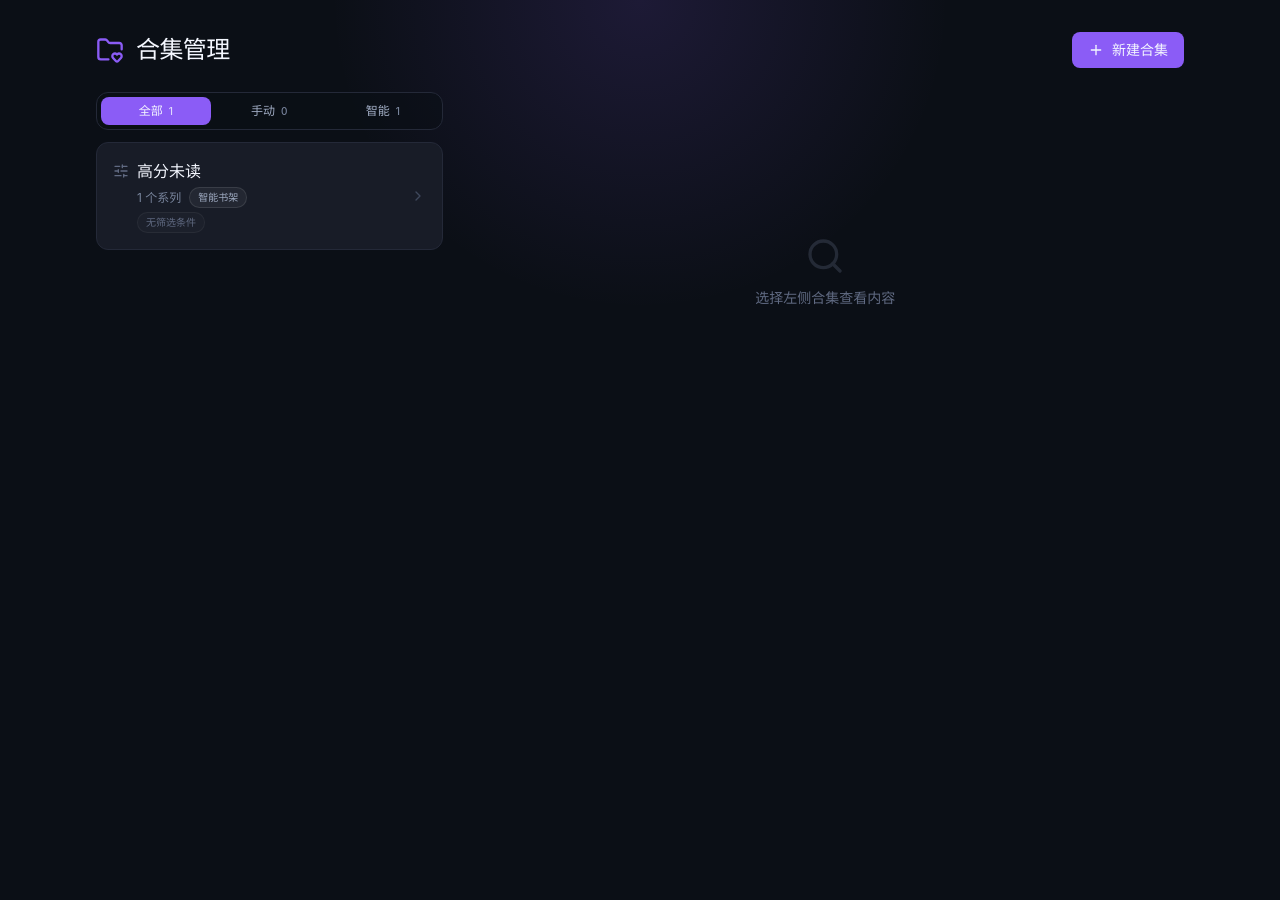
it: 智能书架固化撞名 › 后端 409 时提示重名且弹窗不关
This screenshot has width=1280, height=900.
Click the text "高分未读". click: [169, 171]
box: [137,159,201,183]
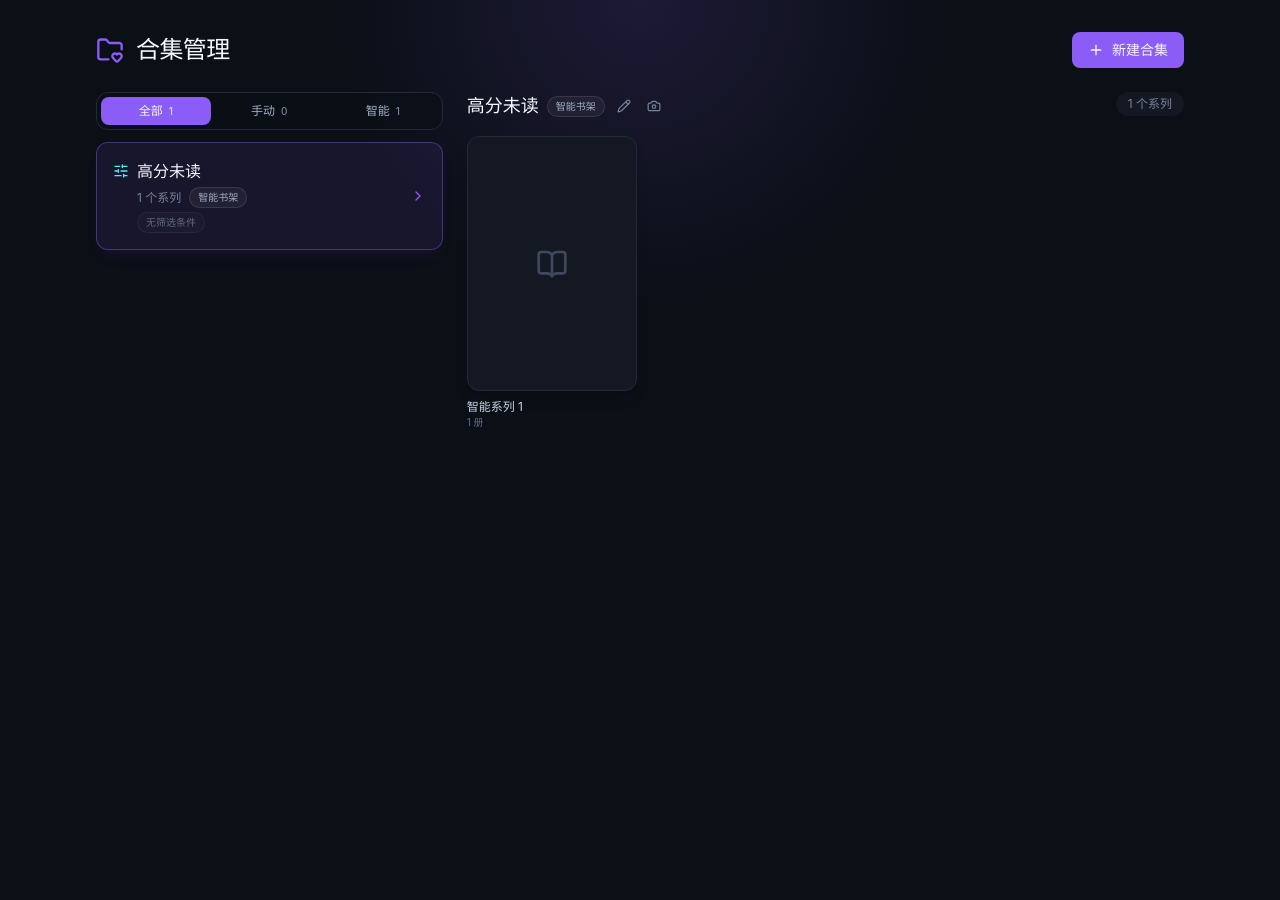
Click the button titled "固化快照". click: [654, 106]
box: [643,95,665,117]
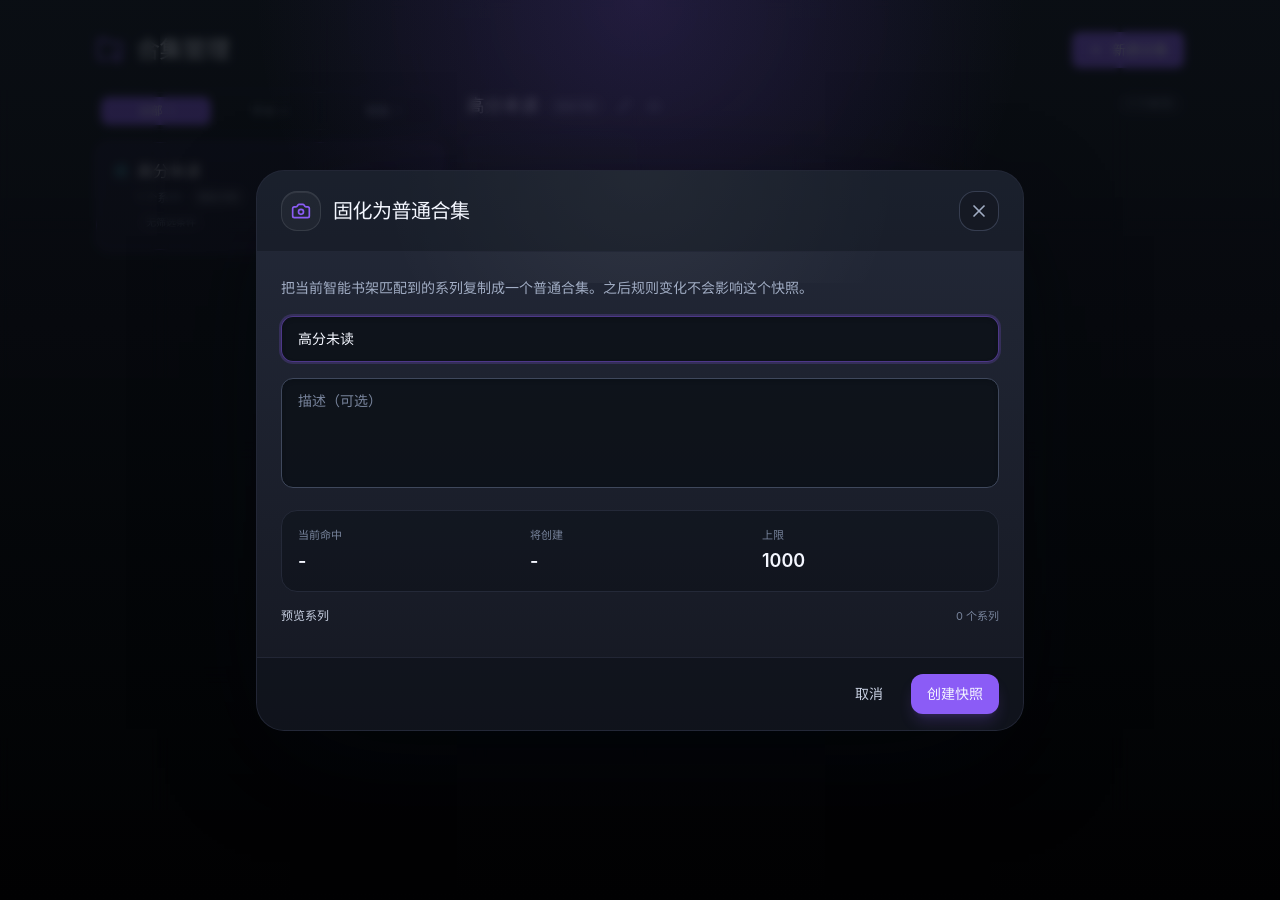
Expected: the button "创建快照" is enabled
Click the button "创建快照". click: [955, 694]
box: [911,674,999,714]
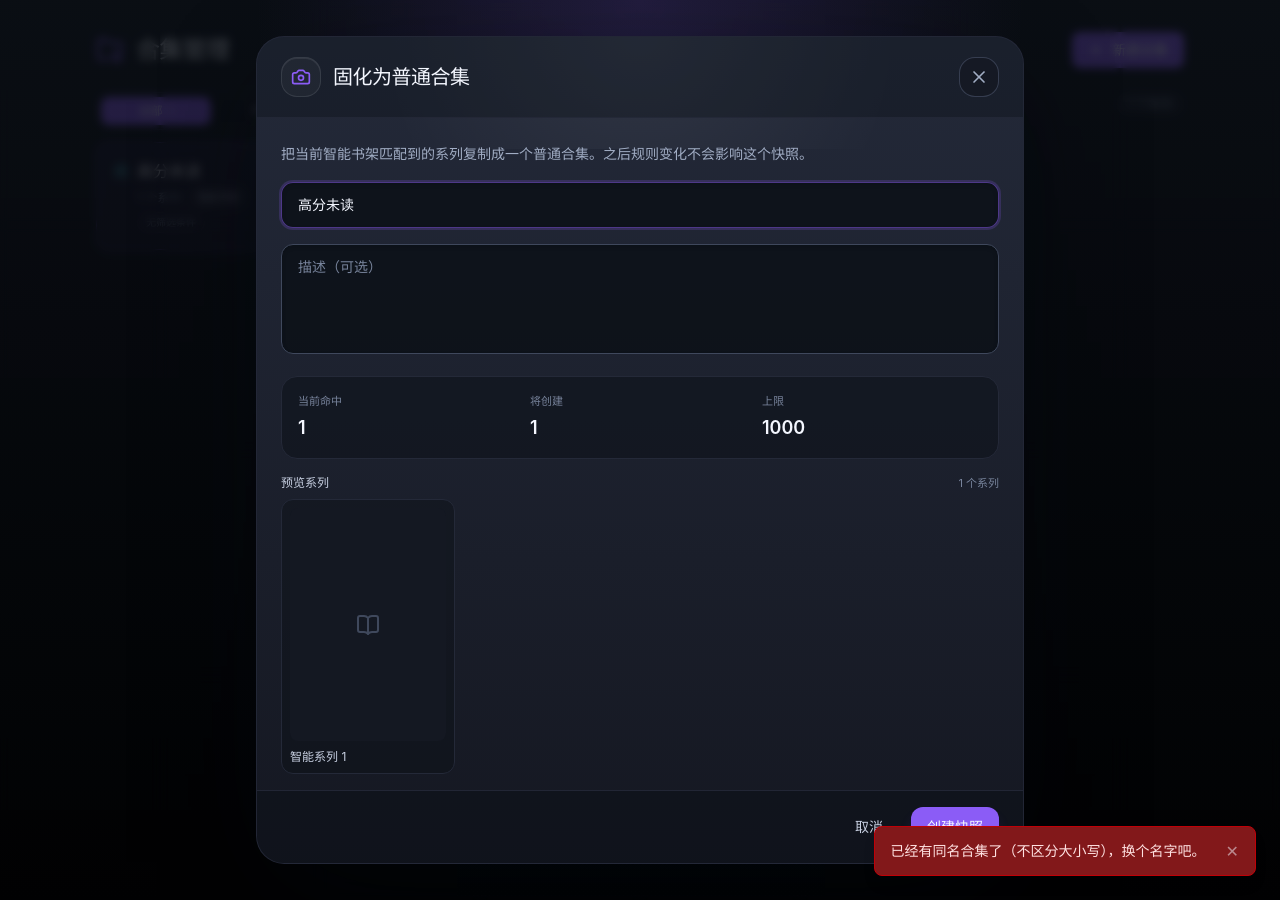
Expected: the button "创建快照" is shown, [911,807,999,847]
Expected: the text "已经有同名合集了（不区分大小写），换个名字吧。" is shown, [891,841,1206,861]
